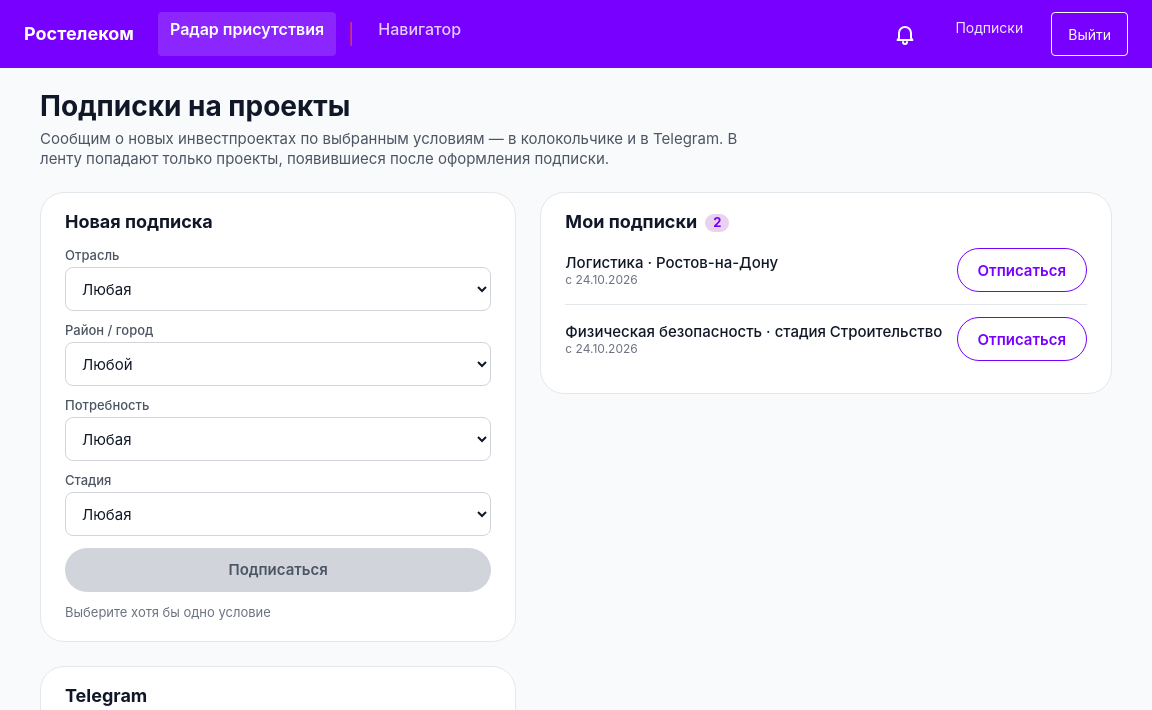
SubscriptionsPage › 400 от сервера — текст ошибки под формой
The width and height of the screenshot is (1152, 710).
Select "Запуск" in the dropdown labelled "Стадия" at (278, 514), box [65,492,491,536]
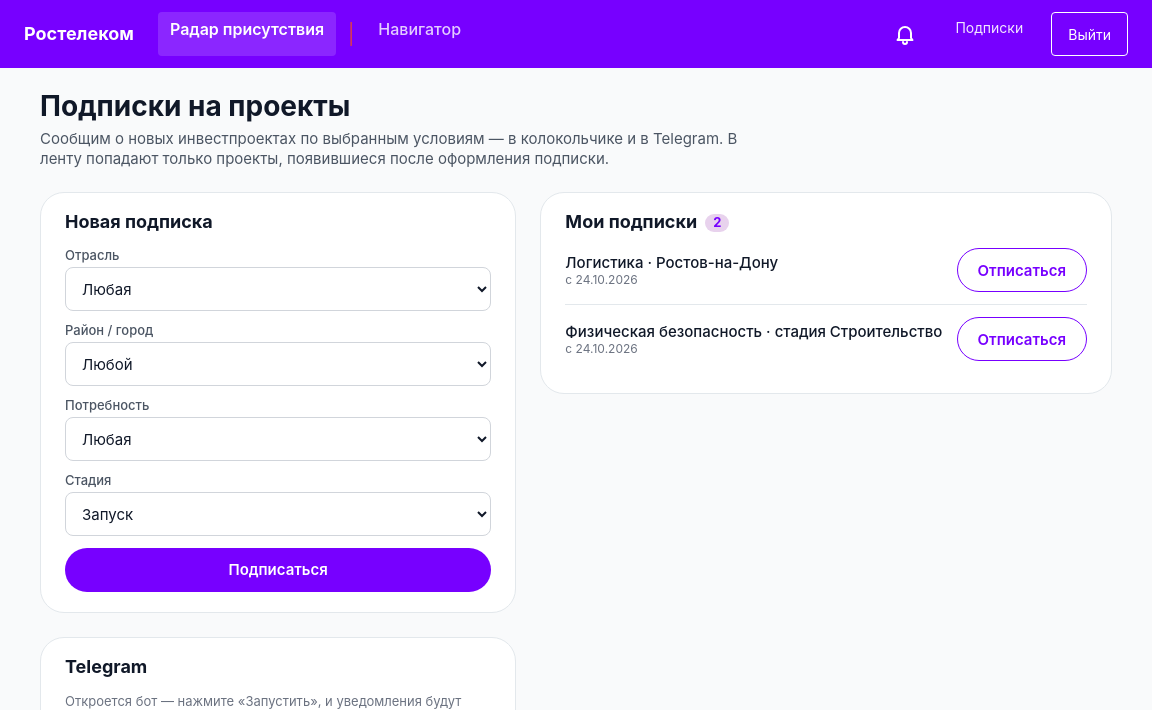
Click the button "Подписаться" at (278, 570), box [65,548,491,592]
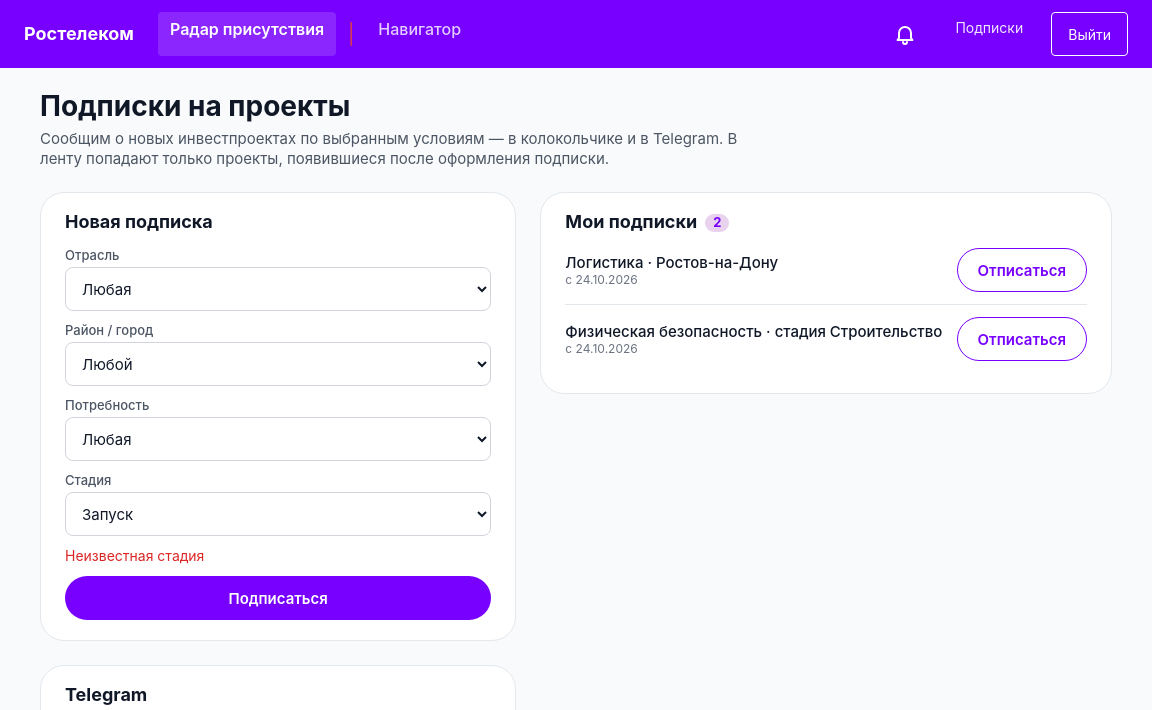
Now the text "Неизвестная стадия" is shown, box [65,547,204,564]
